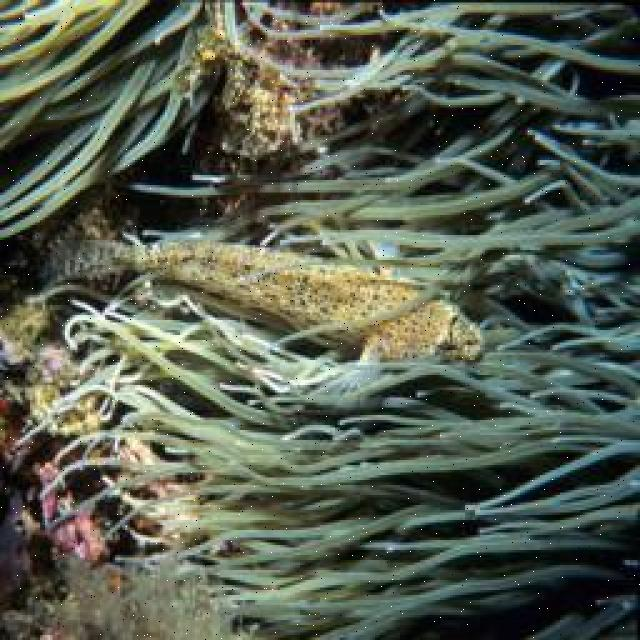fish: (45, 217, 484, 408)
